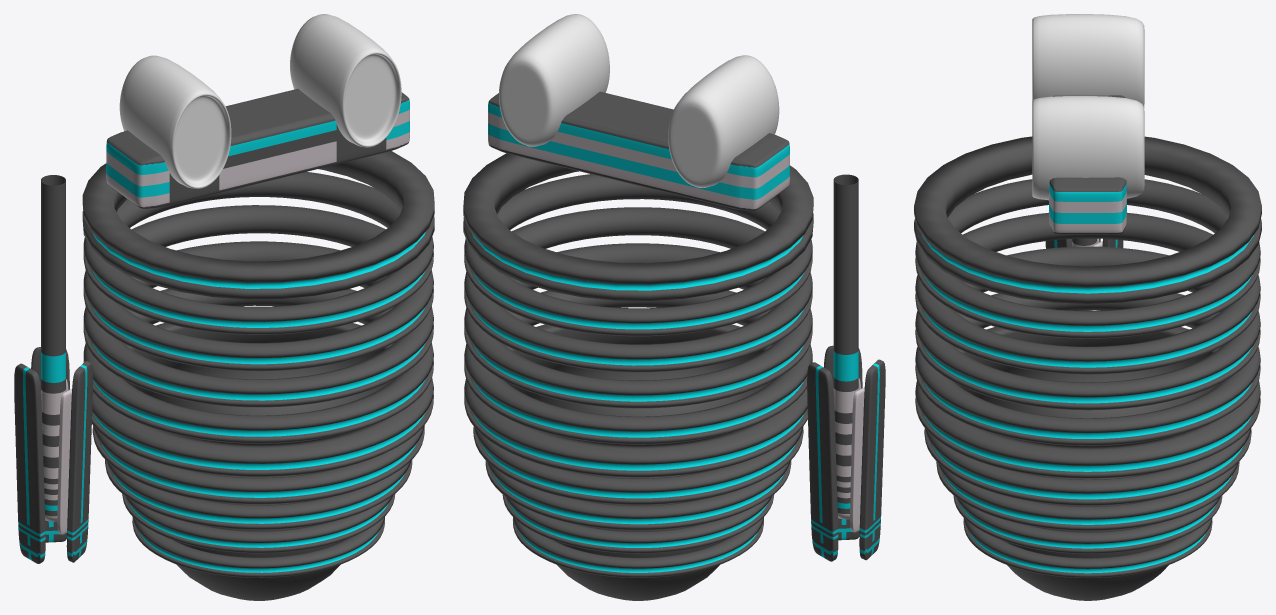
File: PlayerModel.fbx
The picture shows the model from 3 angles, left to right: view 1: azimuth 30°, elevation 25°; view 2: azimuth 150°, elevation 25°; view 3: azimuth 270°, elevation 25°; orthographic projection.
Parts seen in each view (by area): view 1: ZaWheel; view 2: ZaWheel; view 3: ZaWheel.
Part boxes in pixels (x1,y1,x2,y2): ZaWheel: (14,14,434,600); ZaWheel: (463,14,885,600); ZaWheel: (914,14,1261,600).
Size of the model in its own units: 307 by 406 by 240.
